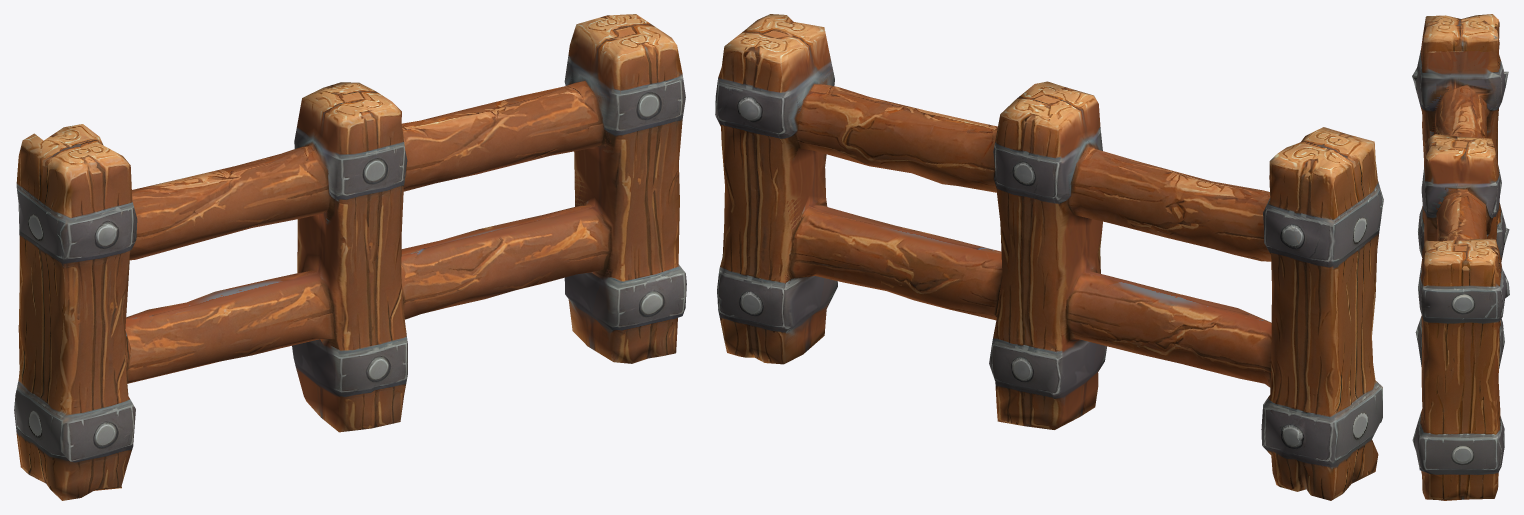
The model's file is FenceSection.glb.
3 renders of one model, left to right at view 1: azimuth 30°, elevation 25°; view 2: azimuth 150°, elevation 25°; view 3: azimuth 270°, elevation 25°, orthographic. The views are drawn at different scales.
Parts seen in each view (by area): view 1: texture_mapping; view 2: texture_mapping; view 3: texture_mapping.
Part boxes in pixels (x1,y1,x2,y2): texture_mapping: (14, 14, 686, 500); texture_mapping: (715, 14, 1383, 500); texture_mapping: (1412, 14, 1509, 500).
Bounding box in the file's own units: 0.9959 × 0.5109 × 0.1733.
Materials: 1 (1 with a texture image).
